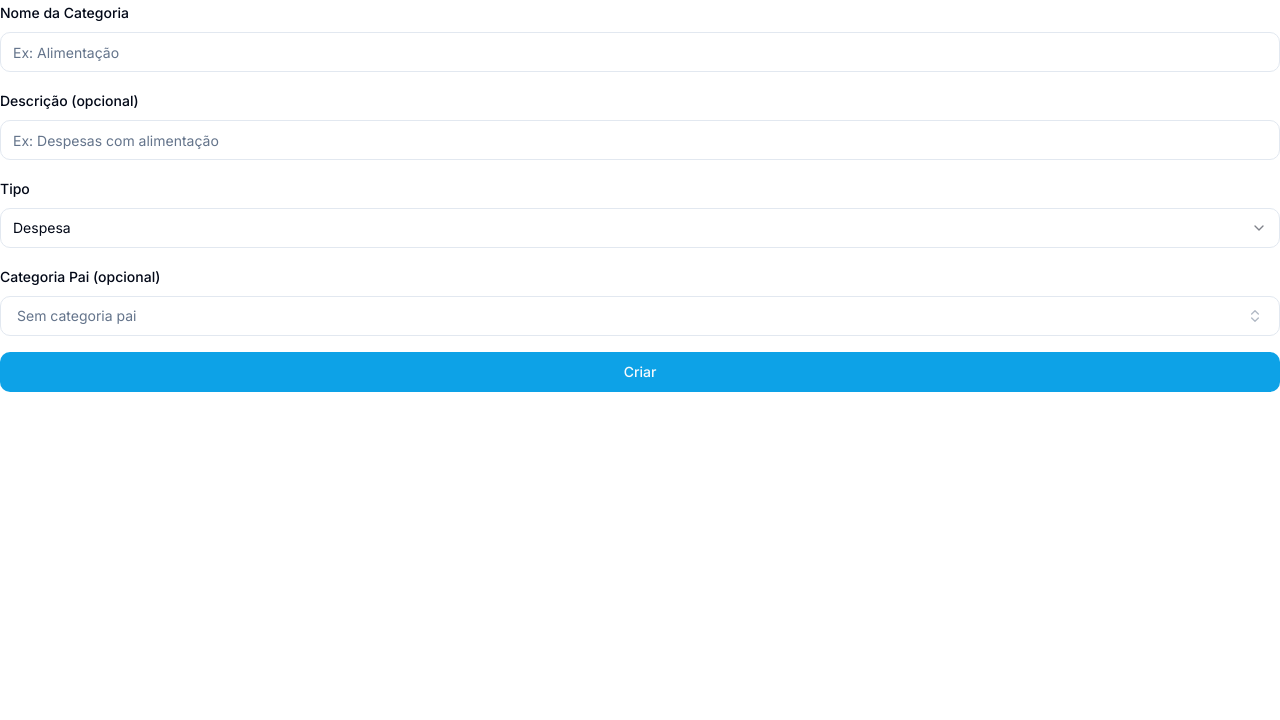
Test: CategoryForm › deve selecionar categoria pai ao clicar
# Abrir popover e selecionar
Click the dropdown named "selecionar categoria pai".
click(77, 316)  # box [0,296,1279,336]
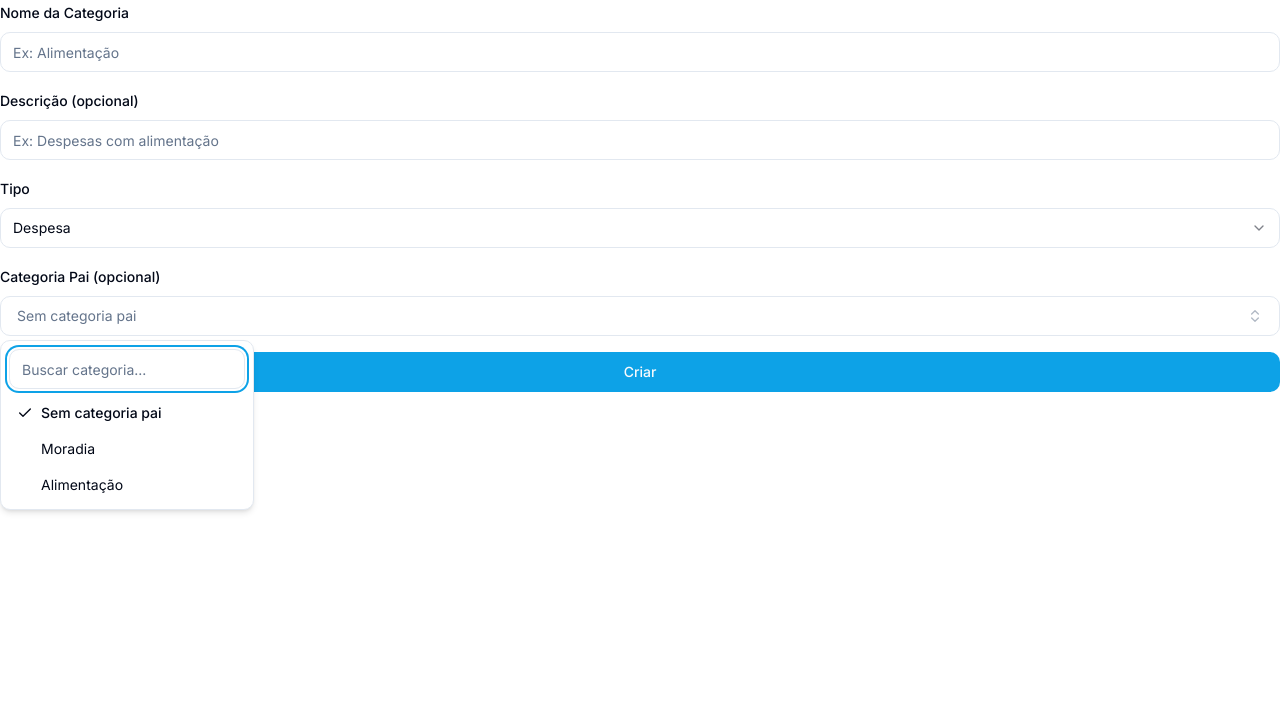
Click the button "Moradia".
click(127, 449)  # box [9,433,245,465]
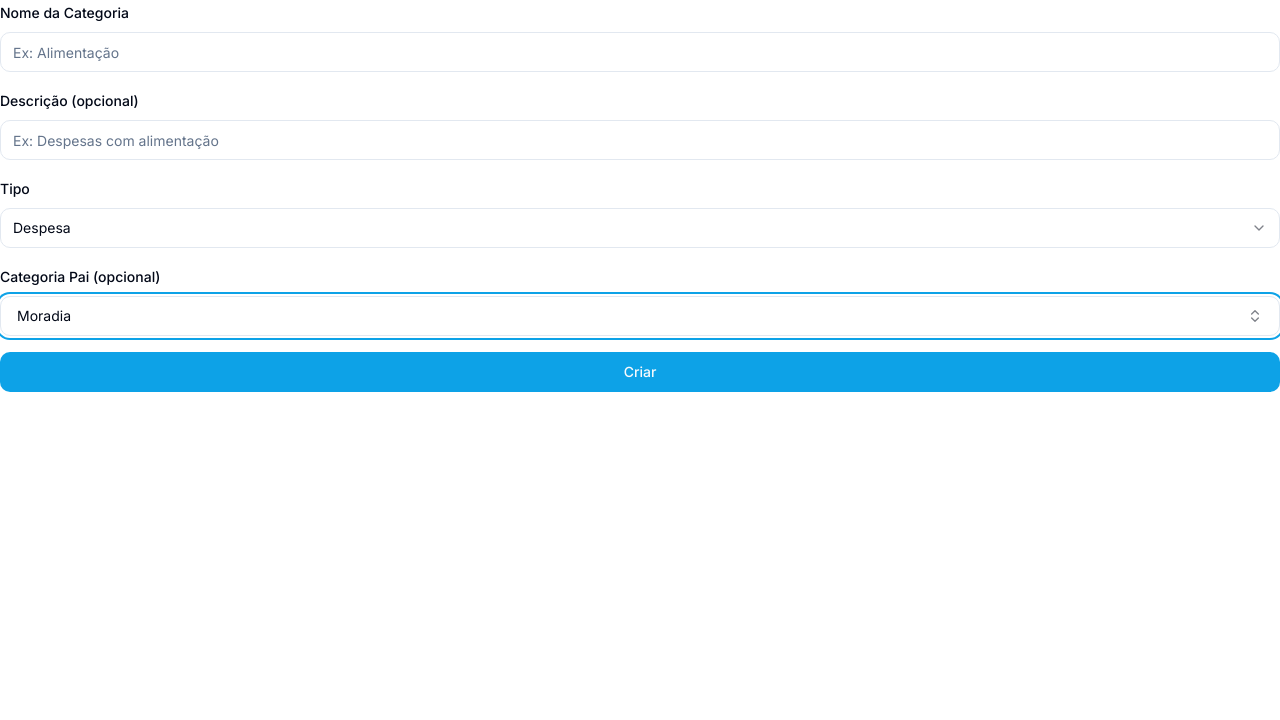
Now the dropdown named "selecionar categoria pai" reads "Moradia", box [0,296,1279,336]
